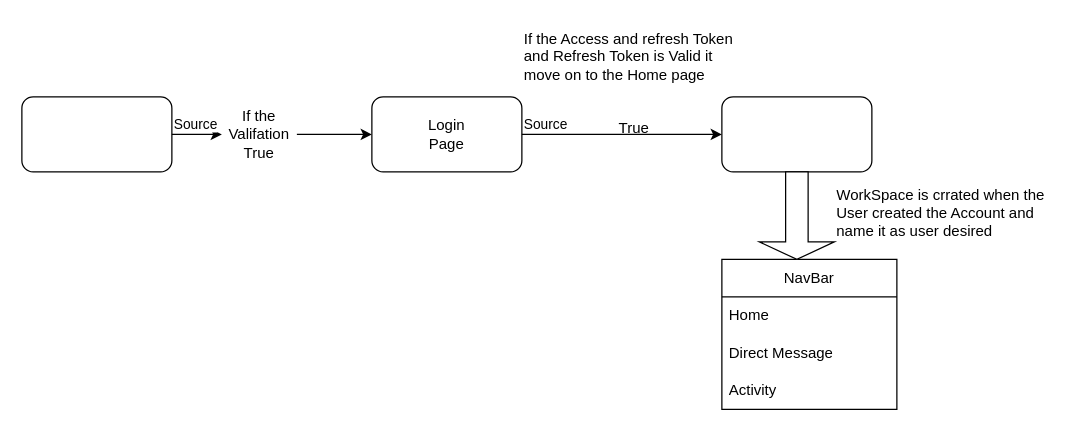
This 1081x431 diagram has some shape labels left out. The shapes that lost their labels are listed below. From the top down, each one's centre as x and y in pixels, then its label:
the point at 96,134: Sign Up Page
the point at 796,134: Aunthenticated Home Page
